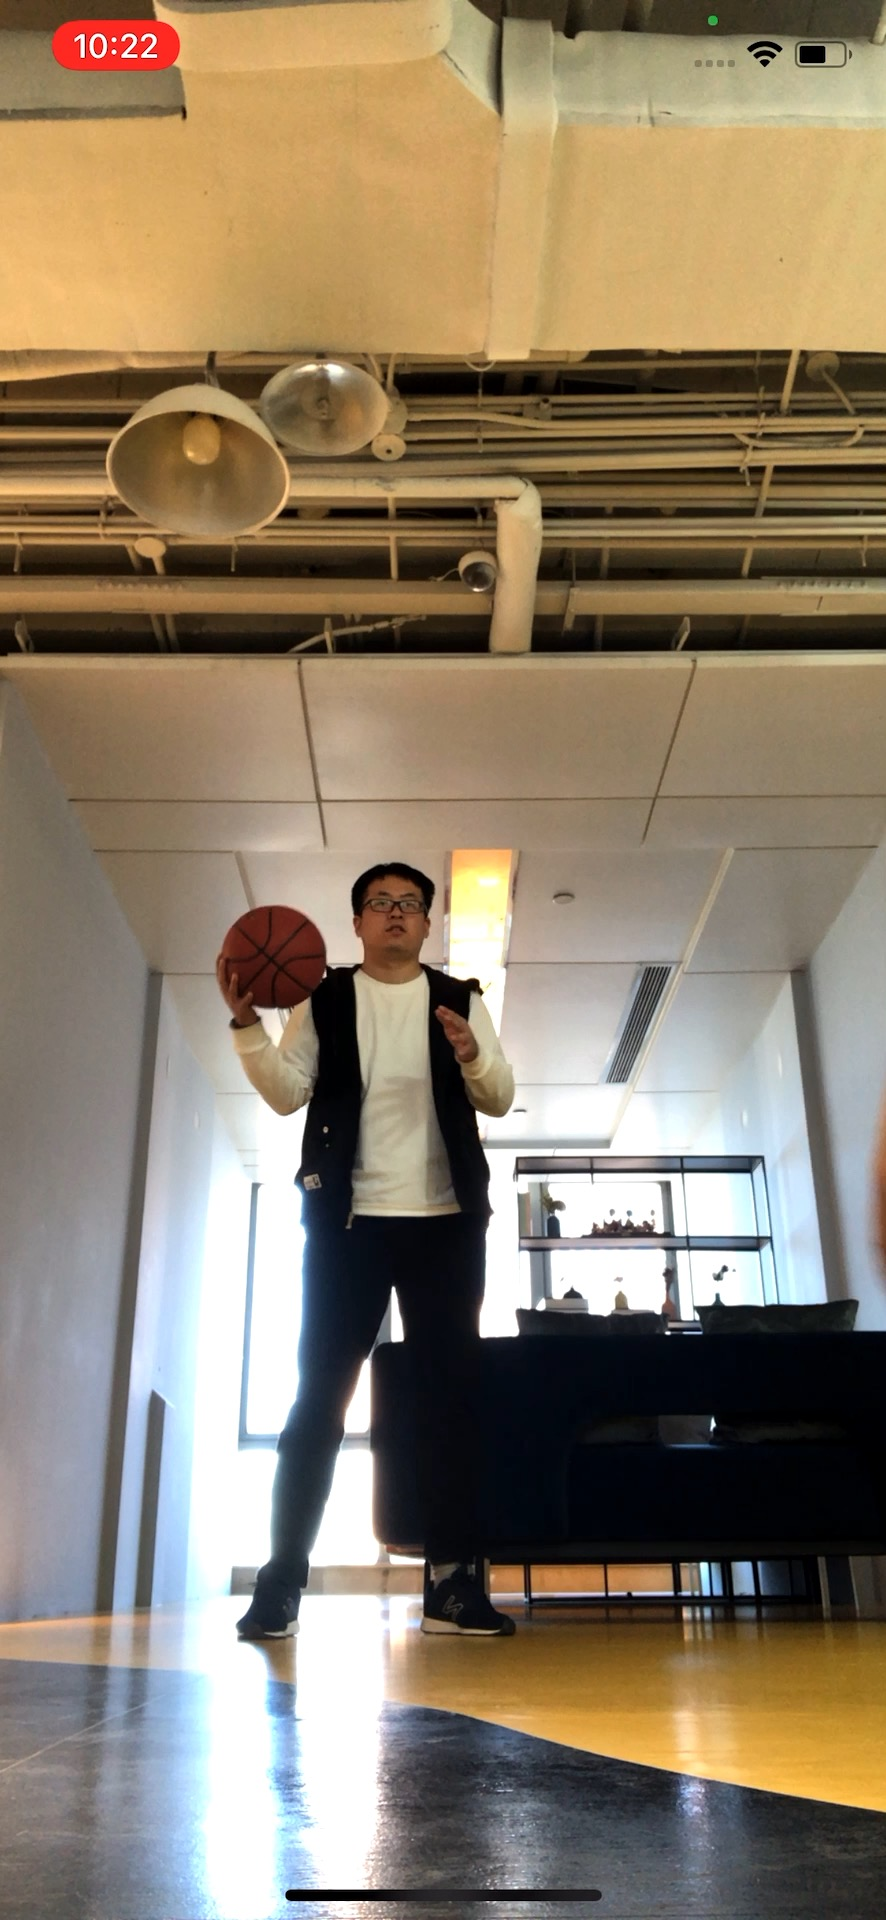ball: (218, 904, 330, 1014)
